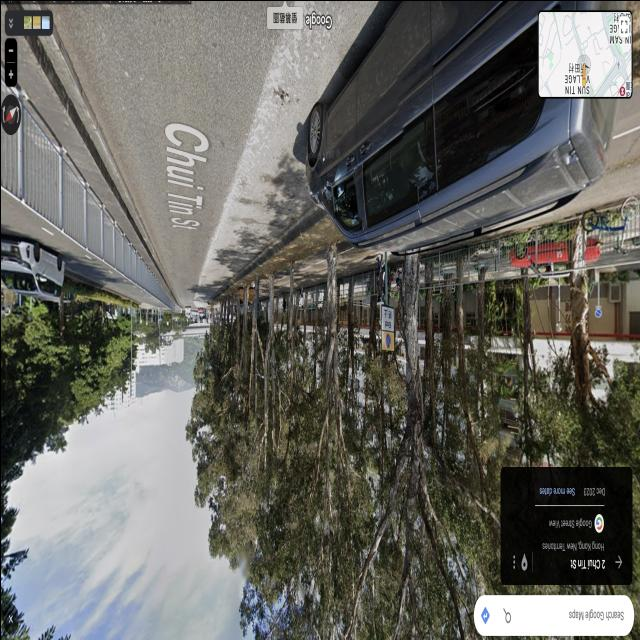Order-Sign: (381, 304, 393, 351)
